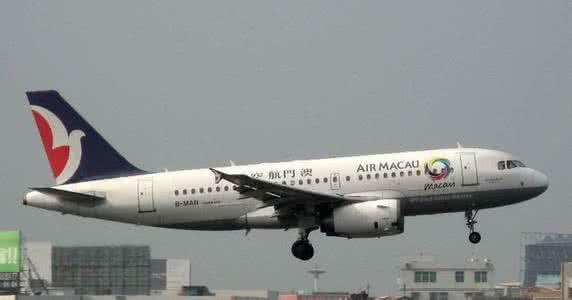airplane: (11, 86, 545, 244)
